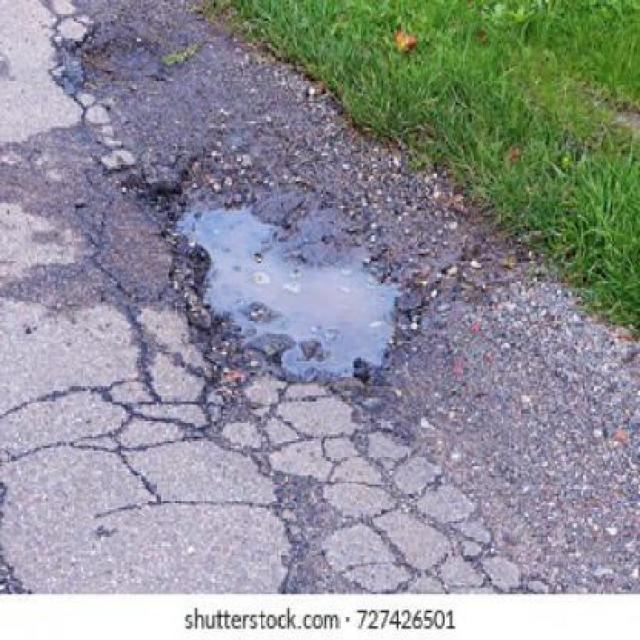pothole: (146, 171, 406, 391)
